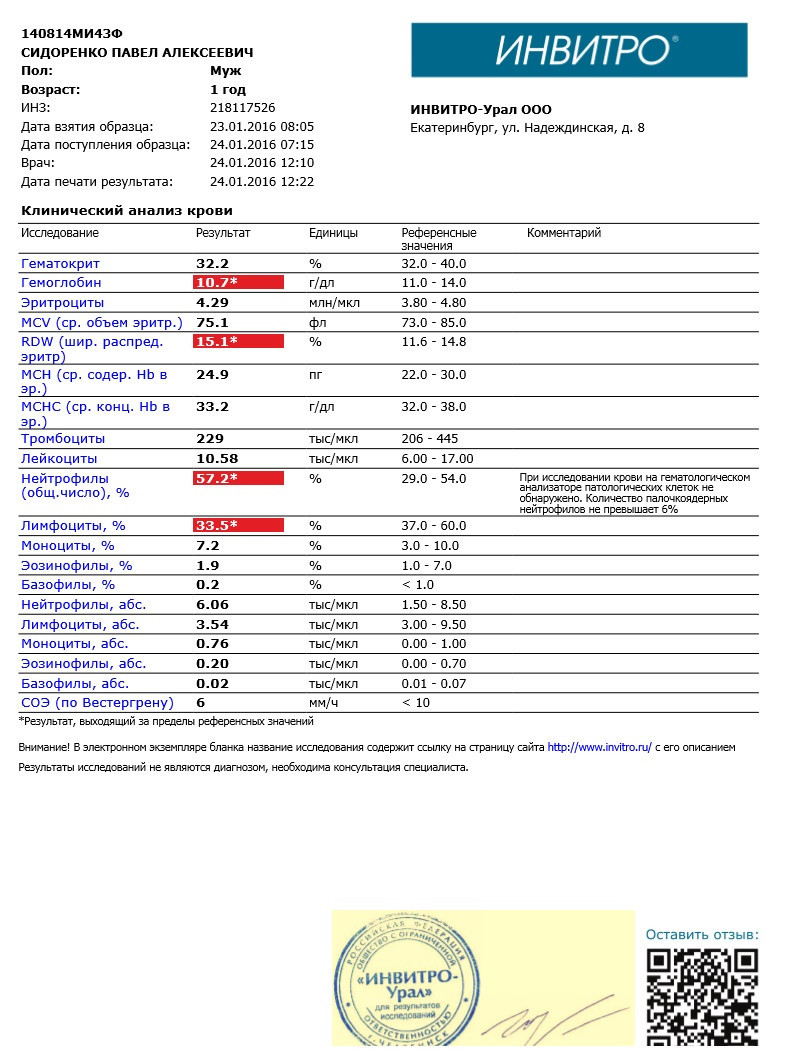column: (518, 223, 751, 712), (20, 223, 183, 712), (400, 223, 478, 712), (195, 223, 251, 712), (308, 223, 359, 712)
